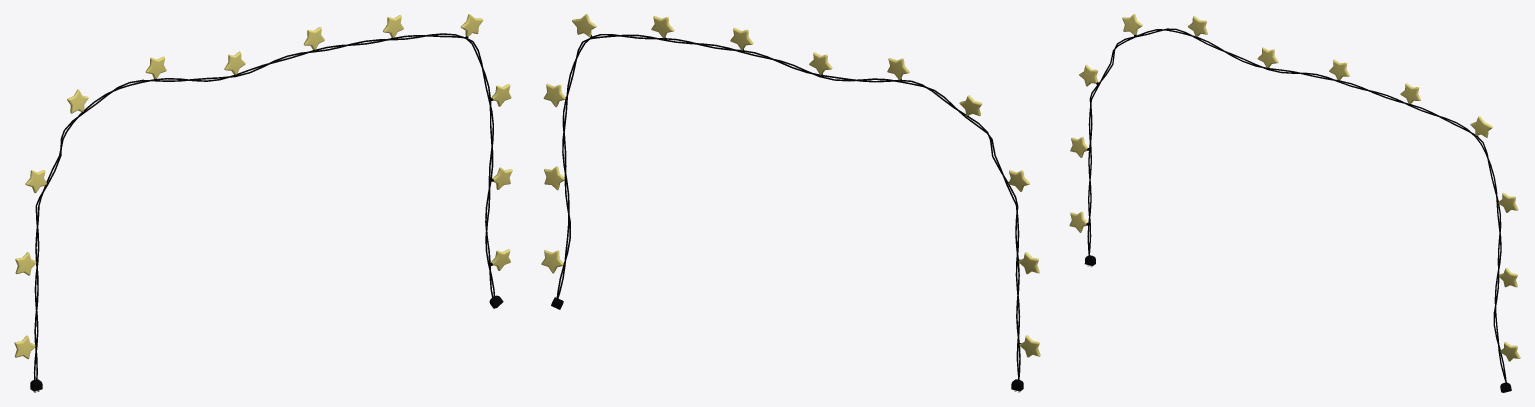
The model's file is lights1.fbx.
The picture shows the model from 3 angles, left to right: view 1: azimuth 30°, elevation 25°; view 2: azimuth 150°, elevation 25°; view 3: azimuth 330°, elevation 25°; orthographic projection. The views are drawn at different scales.
Visible parts, largest first — view 1: String; view 2: String; view 3: String.
Boxes of the visible parts, box(x1,y1,x2,y2) form: String: box(14, 14, 512, 381); String: box(541, 14, 1040, 380); String: box(1069, 14, 1520, 382).
Size of the model in its own units: 315 by 203 by 7.35.
